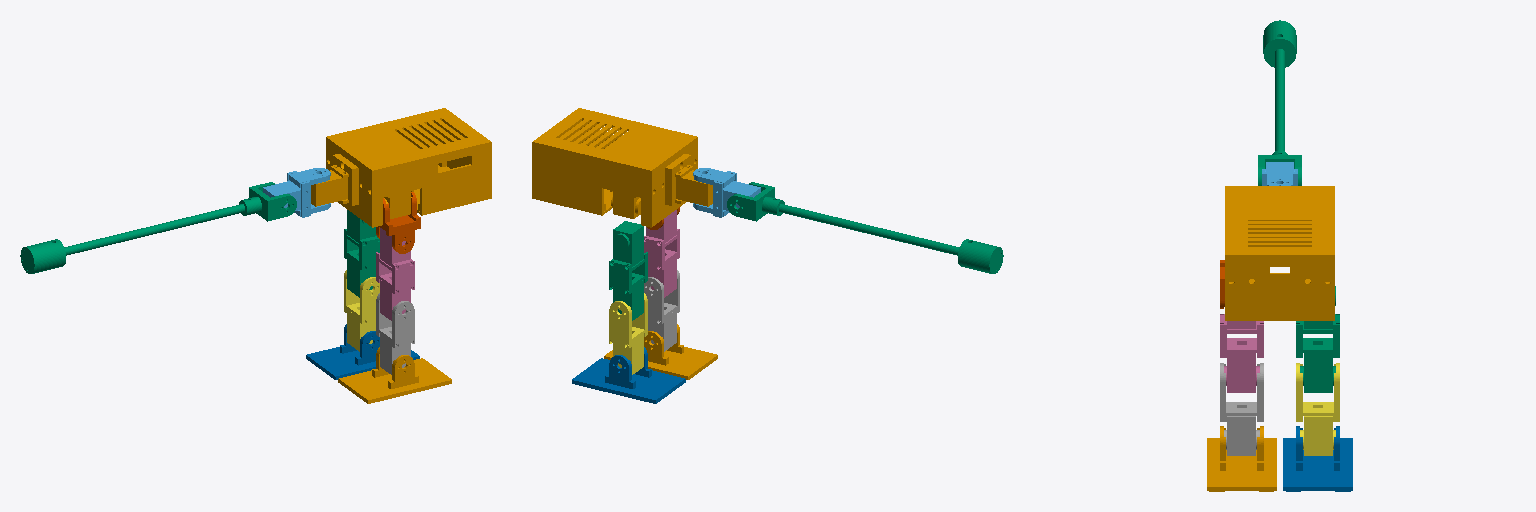
robot.urdf — custom_biped_v2:
<?xml version="1.0" ?>
<robot name="custom_biped_v2">
  <!-- generated by generator/build_urdf.py from v2/params.yaml, git 80ebc8b-dirty; do not edit by hand -->
  <link name="base">
    <inertial>
      <origin xyz="0.0251025 7.76448e-05 0.0133132" rpy="0 0 0"/>
      <mass value="0.302065"/>
      <inertia ixx="0.000237214" ixy="-6.30066e-06" ixz="3.96637e-05" iyy="0.000622193" iyz="-7.26275e-07" izz="0.000696816"/>
    </inertial>
    <visual>
      <origin xyz="0 0 0" rpy="0 0 0"/>
      <geometry>
        <mesh filename="../meshes/base.stl" scale="0.001 0.001 0.001"/>
      </geometry>
    </visual>
    <collision>
      <origin xyz="0.0315 0 0.017" rpy="0 0 0"/>
      <geometry>
        <box size="0.127 0.086 0.058"/>
      </geometry>
    </collision>
    <collision>
      <origin xyz="-0.05275 0 0.017" rpy="0 0 0"/>
      <geometry>
        <box size="0.0415 0.036 0.031"/>
      </geometry>
    </collision>
  </link>
  <link name="left_hip">
    <inertial>
      <origin xyz="4.49157e-05 4.49157e-05 -0.017" rpy="0 0 0"/>
      <mass value="0.0192709"/>
      <inertia ixx="3.29252e-06" ixy="2.91939e-11" ixz="-1.20768e-08" iyy="3.29252e-06" iyz="1.20768e-08" izz="3.58107e-06"/>
    </inertial>
    <visual>
      <origin xyz="0 0 0" rpy="0 0 0"/>
      <geometry>
        <mesh filename="../meshes/left_hip.stl" scale="0.001 0.001 0.001"/>
      </geometry>
    </visual>
    <collision>
      <origin xyz="0 0 -0.017" rpy="0 0 0"/>
      <geometry>
        <box size="0.0345 0.0345 0.013"/>
      </geometry>
    </collision>
  </link>
  <link name="left_thigh">
    <inertial>
      <origin xyz="0 -2.63745e-05 -0.035" rpy="0 0 0"/>
      <mass value="0.0536918"/>
      <inertia ixx="4.12381e-05" ixy="5.13711e-23" ixz="-3.04767e-23" iyy="3.92329e-05" iyz="7.84454e-21" izz="5.38631e-06"/>
    </inertial>
    <visual>
      <origin xyz="0 0 0" rpy="0 0 0"/>
      <geometry>
        <mesh filename="../meshes/left_thigh.stl" scale="0.001 0.001 0.001"/>
      </geometry>
    </visual>
    <collision>
      <origin xyz="0 0 -0.0325" rpy="0 0 0"/>
      <geometry>
        <box size="0.022 0.0345 0.065"/>
      </geometry>
    </collision>
  </link>
  <link name="left_shin">
    <inertial>
      <origin xyz="0 5.62226e-06 -0.0362228" rpy="0 0 0"/>
      <mass value="0.0339904"/>
      <inertia ixx="1.38467e-05" ixy="6.12441e-23" ixz="1.00224e-22" iyy="1.19395e-05" iyz="-4.26161e-08" izz="3.96939e-06"/>
    </inertial>
    <visual>
      <origin xyz="0 0 0" rpy="0 0 0"/>
      <geometry>
        <mesh filename="../meshes/left_shin.stl" scale="0.001 0.001 0.001"/>
      </geometry>
    </visual>
    <collision>
      <origin xyz="0 0 -0.025" rpy="0 0 0"/>
      <geometry>
        <box size="0.022 0.0345 0.05"/>
      </geometry>
    </collision>
  </link>
  <link name="left_foot">
    <inertial>
      <origin xyz="0 2.40526e-05 -0.0193575" rpy="0 0 0"/>
      <mass value="0.0295254"/>
      <inertia ixx="7.98537e-06" ixy="-3.31094e-22" ixz="-3.05482e-22" iyy="1.65003e-05" iyz="-1.36217e-08" izz="2.21216e-05"/>
    </inertial>
    <visual>
      <origin xyz="0 0 0" rpy="0 0 0"/>
      <geometry>
        <mesh filename="../meshes/left_foot.stl" scale="0.001 0.001 0.001"/>
      </geometry>
    </visual>
    <collision>
      <origin xyz="0 0 -0.0225" rpy="0 0 0"/>
      <geometry>
        <box size="0.09 0.055 0.005"/>
      </geometry>
    </collision>
  </link>
  <link name="right_hip">
    <inertial>
      <origin xyz="4.49157e-05 -4.49157e-05 -0.017" rpy="0 0 0"/>
      <mass value="0.0192709"/>
      <inertia ixx="3.29252e-06" ixy="-2.91939e-11" ixz="-1.20768e-08" iyy="3.29252e-06" iyz="-1.20768e-08" izz="3.58107e-06"/>
    </inertial>
    <visual>
      <origin xyz="0 0 0" rpy="0 0 0"/>
      <geometry>
        <mesh filename="../meshes/right_hip.stl" scale="0.001 0.001 0.001"/>
      </geometry>
    </visual>
    <collision>
      <origin xyz="0 0 -0.017" rpy="0 0 0"/>
      <geometry>
        <box size="0.0345 0.0345 0.013"/>
      </geometry>
    </collision>
  </link>
  <link name="right_thigh">
    <inertial>
      <origin xyz="0 2.63745e-05 -0.035" rpy="0 0 0"/>
      <mass value="0.0536918"/>
      <inertia ixx="4.12381e-05" ixy="-1.08065e-22" ixz="1.66448e-22" iyy="3.92329e-05" iyz="-2.50673e-20" izz="5.38631e-06"/>
    </inertial>
    <visual>
      <origin xyz="0 0 0" rpy="0 0 0"/>
      <geometry>
        <mesh filename="../meshes/right_thigh.stl" scale="0.001 0.001 0.001"/>
      </geometry>
    </visual>
    <collision>
      <origin xyz="0 0 -0.0325" rpy="0 0 0"/>
      <geometry>
        <box size="0.022 0.0345 0.065"/>
      </geometry>
    </collision>
  </link>
  <link name="right_shin">
    <inertial>
      <origin xyz="0 -5.62226e-06 -0.0362228" rpy="0 0 0"/>
      <mass value="0.0339904"/>
      <inertia ixx="1.38467e-05" ixy="-2.05393e-22" ixz="7.97025e-23" iyy="1.19395e-05" iyz="4.26161e-08" izz="3.96939e-06"/>
    </inertial>
    <visual>
      <origin xyz="0 0 0" rpy="0 0 0"/>
      <geometry>
        <mesh filename="../meshes/right_shin.stl" scale="0.001 0.001 0.001"/>
      </geometry>
    </visual>
    <collision>
      <origin xyz="0 0 -0.025" rpy="0 0 0"/>
      <geometry>
        <box size="0.022 0.0345 0.05"/>
      </geometry>
    </collision>
  </link>
  <link name="right_foot">
    <inertial>
      <origin xyz="0 -2.40526e-05 -0.0193575" rpy="0 0 0"/>
      <mass value="0.0295254"/>
      <inertia ixx="7.98537e-06" ixy="3.15815e-22" ixz="-3.05482e-22" iyy="1.65003e-05" iyz="1.36217e-08" izz="2.21216e-05"/>
    </inertial>
    <visual>
      <origin xyz="0 0 0" rpy="0 0 0"/>
      <geometry>
        <mesh filename="../meshes/right_foot.stl" scale="0.001 0.001 0.001"/>
      </geometry>
    </visual>
    <collision>
      <origin xyz="0 0 -0.0225" rpy="0 0 0"/>
      <geometry>
        <box size="0.09 0.055 0.005"/>
      </geometry>
    </collision>
  </link>
  <link name="tail_yaw_link">
    <inertial>
      <origin xyz="-0.0282483 -2.08797e-05 -2.6578e-05" rpy="0 0 0"/>
      <mass value="0.0339108"/>
      <inertia ixx="4.02165e-06" ixy="-1.11529e-08" ixz="2.29712e-08" iyy="9.33824e-06" iyz="1.88185e-11" izz="8.65092e-06"/>
    </inertial>
    <visual>
      <origin xyz="0 0 0" rpy="0 0 0"/>
      <geometry>
        <mesh filename="../meshes/tail_yaw_link.stl" scale="0.001 0.001 0.001"/>
      </geometry>
    </visual>
    <collision>
      <origin xyz="-0.00775 0 0" rpy="0 0 0"/>
      <geometry>
        <box size="0.0365 0.028 0.0345"/>
      </geometry>
    </collision>
  </link>
  <link name="tail_pitch_link">
    <inertial>
      <origin xyz="-0.187274 1.32981e-05 -2.43176e-05" rpy="0 0 0"/>
      <mass value="0.0613126"/>
      <inertia ixx="4.46073e-06" ixy="-1.5115e-07" ixz="-3.37314e-08" iyy="0.000629861" iyz="-1.72599e-11" izz="0.000630878"/>
    </inertial>
    <visual>
      <origin xyz="0 0 0" rpy="0 0 0"/>
      <geometry>
        <mesh filename="../meshes/tail_pitch_link.stl" scale="0.001 0.001 0.001"/>
      </geometry>
    </visual>
    <collision>
      <origin xyz="-0.01175 0 0" rpy="0 0 0"/>
      <geometry>
        <box size="0.0445 0.0345 0.022"/>
      </geometry>
    </collision>
    <collision>
      <origin xyz="-0.1335 0 0" rpy="0 1.570796 0"/>
      <geometry>
        <cylinder radius="0.004" length="0.199"/>
      </geometry>
    </collision>
    <collision>
      <origin xyz="-0.25 0 0" rpy="0 1.570796 0"/>
      <geometry>
        <cylinder radius="0.013" length="0.034"/>
      </geometry>
    </collision>
  </link>
  <joint name="left_hip_roll" type="revolute">
    <origin xyz="0 0.03 0" rpy="0 0 0"/>
    <parent link="base"/>
    <child link="left_hip"/>
    <axis xyz="1 0 0"/>
    <limit lower="-0.436332" upper="0.436332" effort="1.18" velocity="9.6"/>
    <dynamics damping="0" friction="0.016"/>
  </joint>
  <joint name="left_hip_pitch" type="revolute">
    <origin xyz="0 0 -0.034" rpy="0 0 0"/>
    <parent link="left_hip"/>
    <child link="left_thigh"/>
    <axis xyz="0 1 0"/>
    <limit lower="-0.959931" upper="0.785398" effort="1.18" velocity="9.6"/>
    <dynamics damping="0" friction="0.016"/>
  </joint>
  <joint name="left_knee" type="revolute">
    <origin xyz="0 0 -0.07" rpy="0 0 0"/>
    <parent link="left_thigh"/>
    <child link="left_shin"/>
    <axis xyz="0 1 0"/>
    <limit lower="0.000000" upper="1.919862" effort="1.18" velocity="9.6"/>
    <dynamics damping="0" friction="0.016"/>
  </joint>
  <joint name="left_ankle_pitch" type="revolute">
    <origin xyz="0 0 -0.055" rpy="0 0 0"/>
    <parent link="left_shin"/>
    <child link="left_foot"/>
    <axis xyz="0 1 0"/>
    <limit lower="-1.047198" upper="1.047198" effort="1.18" velocity="9.6"/>
    <dynamics damping="0" friction="0.016"/>
  </joint>
  <joint name="right_hip_roll" type="revolute">
    <origin xyz="0 -0.03 0" rpy="0 0 0"/>
    <parent link="base"/>
    <child link="right_hip"/>
    <axis xyz="1 0 0"/>
    <limit lower="-0.436332" upper="0.436332" effort="1.18" velocity="9.6"/>
    <dynamics damping="0" friction="0.016"/>
  </joint>
  <joint name="right_hip_pitch" type="revolute">
    <origin xyz="0 0 -0.034" rpy="0 0 0"/>
    <parent link="right_hip"/>
    <child link="right_thigh"/>
    <axis xyz="0 1 0"/>
    <limit lower="-0.959931" upper="0.785398" effort="1.18" velocity="9.6"/>
    <dynamics damping="0" friction="0.016"/>
  </joint>
  <joint name="right_knee" type="revolute">
    <origin xyz="0 0 -0.07" rpy="0 0 0"/>
    <parent link="right_thigh"/>
    <child link="right_shin"/>
    <axis xyz="0 1 0"/>
    <limit lower="0.000000" upper="1.919862" effort="1.18" velocity="9.6"/>
    <dynamics damping="0" friction="0.016"/>
  </joint>
  <joint name="right_ankle_pitch" type="revolute">
    <origin xyz="0 0 -0.055" rpy="0 0 0"/>
    <parent link="right_shin"/>
    <child link="right_foot"/>
    <axis xyz="0 1 0"/>
    <limit lower="-1.047198" upper="1.047198" effort="1.18" velocity="9.6"/>
    <dynamics damping="0" friction="0.016"/>
  </joint>
  <joint name="tail_yaw" type="revolute">
    <origin xyz="-0.064 0 0.017" rpy="0 0 0"/>
    <parent link="base"/>
    <child link="tail_yaw_link"/>
    <axis xyz="0 0 1"/>
    <limit lower="-1.047198" upper="1.047198" effort="1.18" velocity="9.6"/>
    <dynamics damping="0" friction="0.016"/>
  </joint>
  <joint name="tail_pitch" type="revolute">
    <origin xyz="-0.044 0 0" rpy="0 0 0"/>
    <parent link="tail_yaw_link"/>
    <child link="tail_pitch_link"/>
    <axis xyz="0 1 0"/>
    <limit lower="-0.785398" upper="1.047198" effort="1.18" velocity="9.6"/>
    <dynamics damping="0" friction="0.016"/>
  </joint>
</robot>

--- What the picture shows (computed from the rendered views, not written in the file) ---
3 views of the same robot in one strip: view 1: azimuth 30°, elevation 25°; view 2: azimuth 150°, elevation 25°; view 3: azimuth 270°, elevation 25° (orthographic).
Robot: custom_biped_v2 — 11 links, 10 joints (10 revolute); root link base; default pose: all joints at 0.
Links seen in each view (by area): view 1: base, tail_pitch_link, right_foot, right_thigh, left_thigh, left_foot, right_shin, left_shin, tail_yaw_link, right_hip; view 2: base, tail_pitch_link, left_foot, left_thigh, right_foot, right_thigh, left_shin, right_shin, tail_yaw_link; view 3: base, left_foot, right_foot, tail_pitch_link, left_thigh, right_thigh, left_shin, right_shin, tail_yaw_link.
Boxes of the visible links, x1=… form: base: x1=311, y1=108, x2=491, y2=227; tail_pitch_link: x1=20, y1=182, x2=296, y2=273; right_foot: x1=338, y1=347, x2=451, y2=403; right_thigh: x1=376, y1=228, x2=414, y2=320; left_thigh: x1=344, y1=210, x2=379, y2=297; left_foot: x1=306, y1=324, x2=419, y2=379; right_shin: x1=376, y1=293, x2=414, y2=374; left_shin: x1=344, y1=270, x2=379, y2=351; tail_yaw_link: x1=263, y1=168, x2=330, y2=217; right_hip: x1=376, y1=192, x2=420, y2=253; base: x1=532, y1=108, x2=712, y2=227; tail_pitch_link: x1=727, y1=182, x2=1003, y2=273; left_foot: x1=572, y1=347, x2=685, y2=403; left_thigh: x1=609, y1=221, x2=647, y2=320; right_foot: x1=604, y1=324, x2=717, y2=379; right_thigh: x1=644, y1=210, x2=679, y2=297; left_shin: x1=609, y1=293, x2=647, y2=374; right_shin: x1=644, y1=270, x2=679, y2=351; tail_yaw_link: x1=693, y1=168, x2=760, y2=217; base: x1=1225, y1=186, x2=1334, y2=320; left_foot: x1=1283, y1=426, x2=1352, y2=491; right_foot: x1=1207, y1=426, x2=1276, y2=491; tail_pitch_link: x1=1258, y1=20, x2=1301, y2=185; left_thigh: x1=1296, y1=286, x2=1339, y2=392; right_thigh: x1=1220, y1=314, x2=1263, y2=392; left_shin: x1=1296, y1=363, x2=1339, y2=455; right_shin: x1=1220, y1=363, x2=1263, y2=455; tail_yaw_link: x1=1262, y1=162, x2=1297, y2=185.
Bounding box of the posed robot: 0.47 × 0.115 × 0.23 m (x, y, z).
10 mesh visuals loaded from 11 distinct referenced files (10 binary STL); not drawn: 1 (reference not matched to a file when rendering).
